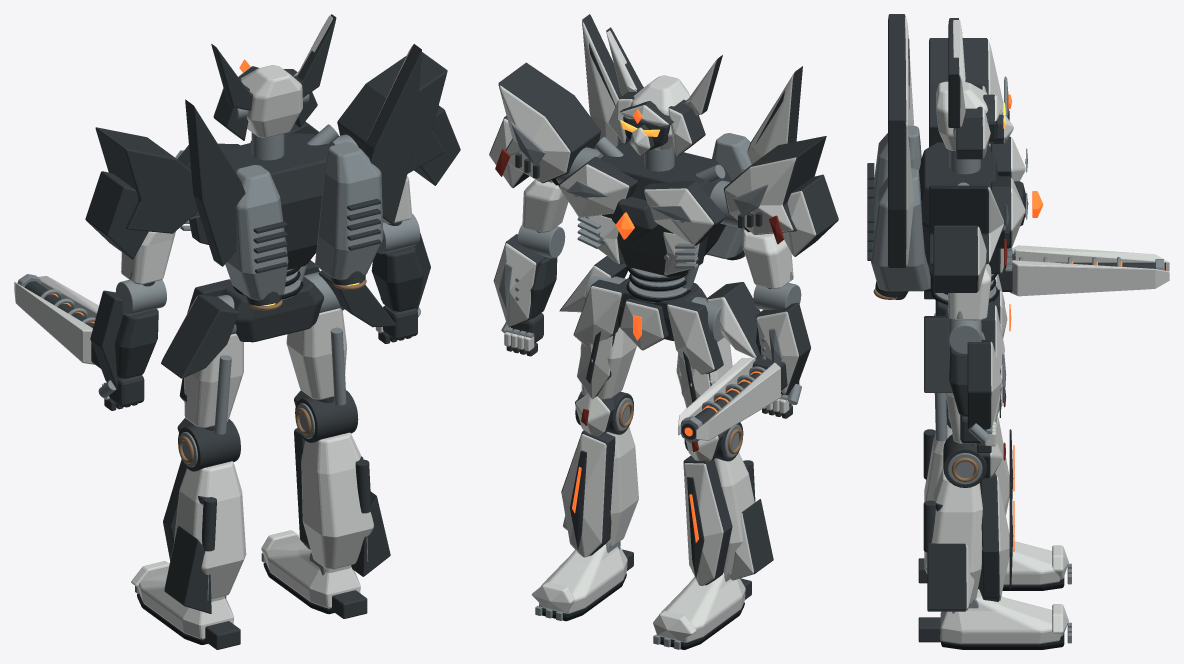
The model's file is EV04_Aegis_Strike.glb.
3 renders of one model, left to right at view 1: azimuth 30°, elevation 25°; view 2: azimuth 150°, elevation 25°; view 3: azimuth 270°, elevation 25°, orthographic. The views are drawn at different scales.
Parts seen in each view (by area): view 1: Armor_chest, Armor_shin_L, Armor_shin_R, Armor_forearm_R, Armor_shoulder_R, Armor_head, Armor_shoulder_L, Armor_foot_L, Armor_thigh_L, Armor_foot_R, Armor_skirt_R, Armor_forearm_L (+7 smaller); view 2: Armor_chest, Armor_shin_R, Armor_shin_L, Armor_forearm_R, Armor_shoulder_L, Armor_shoulder_R, Armor_head, Armor_skirt_R, Armor_forearm_L, Armor_foot_L, Armor_foot_R, Armor_pelvis (+7 smaller); view 3: Armor_chest, Armor_shin_L, Armor_shoulder_L, Armor_forearm_R, Armor_foot_L, Armor_head, Armor_forearm_L, Armor_shoulder_R, Armor_foot_R, Armor_skirt_L, Armor_shin_R, Armor_upper_arm_L (+3 smaller).
Part boxes in pixels (x1,y1,x2,y2): Armor_chest: (175,44,421,310); Armor_shin_L: (294,390,390,576); Armor_shin_R: (163,418,246,613); Armor_forearm_R: (14,274,166,388); Armor_shoulder_R: (85,127,198,259); Armor_head: (211,14,336,160); Armor_shoulder_L: (337,52,460,185); Armor_foot_L: (261,530,367,618); Armor_thigh_L: (286,271,346,405); Armor_foot_R: (131,561,240,649); Armor_skirt_R: (161,279,238,378); Armor_forearm_L: (371,214,430,311); Armor_chest: (558,14,802,276); Armor_shin_R: (683,422,773,585); Armor_shin_L: (561,391,638,557); Armor_forearm_R: (678,282,810,442); Armor_shoulder_L: (489,62,600,187); Armor_shoulder_R: (724,136,838,256); Armor_head: (606,27,722,171); Armor_skirt_R: (666,282,760,374); Armor_forearm_L: (493,224,565,327); Armor_foot_L: (531,541,633,621); Armor_foot_R: (653,571,751,649); Armor_pelvis: (618,266,706,350); Armor_chest: (867,14,1043,299); Armor_shin_L: (923,434,1014,611); Armor_shoulder_L: (929,185,1009,292); Armor_forearm_R: (998,245,1169,296); Armor_foot_L: (918,589,1071,649); Armor_head: (936,18,1013,174); Armor_forearm_L: (948,319,1006,428); Armor_shoulder_R: (929,38,1009,146); Armor_foot_R: (918,541,1071,590); Armor_skirt_L: (924,303,1004,392); Armor_shin_R: (923,390,1014,515); Armor_upper_arm_L: (948,263,991,320).
Bounding box in the file's own units: 4.46 × 7.14 × 3.46.
